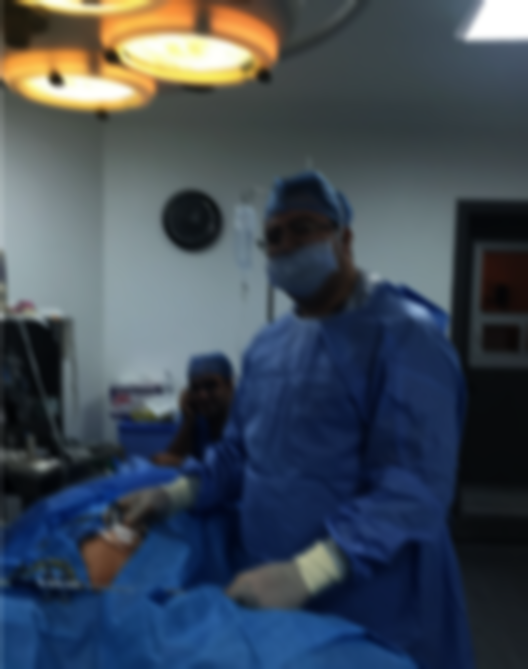mask_weared_incorrect: (251, 176, 353, 302)
